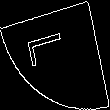L_E: (32, 34, 78, 76)
